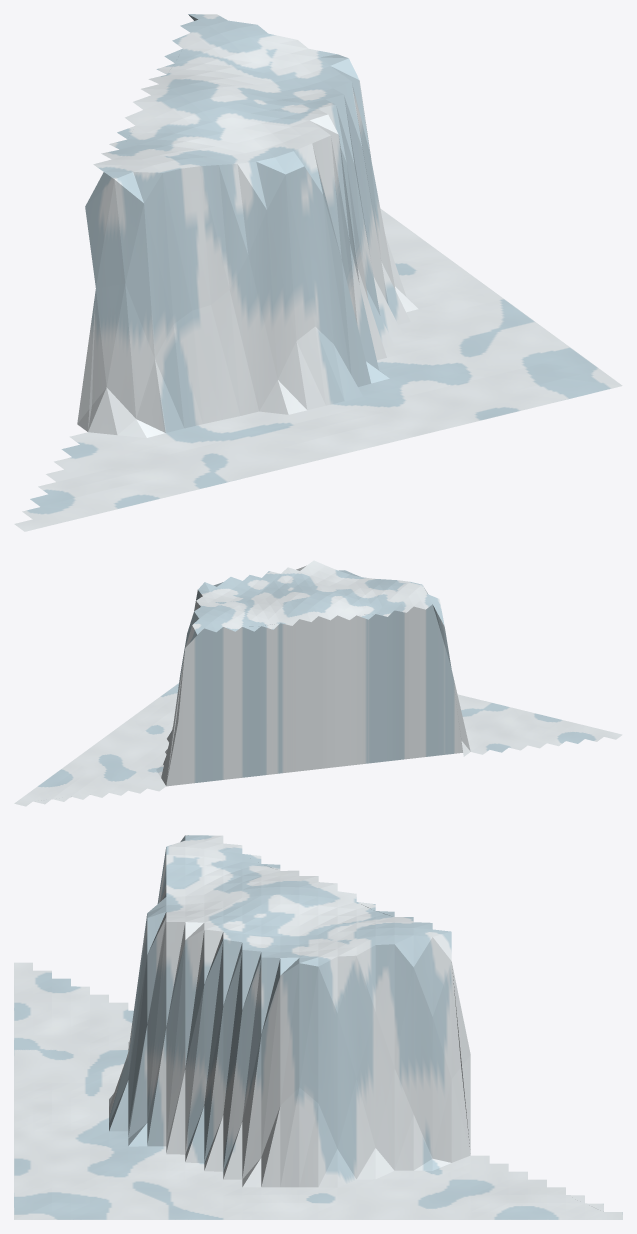
The model's file is Snow_Mountains_06_NE.obj.
3 renders of one model, top to bottom at view 1: azimuth 30°, elevation 25°; view 2: azimuth 150°, elevation 25°; view 3: azimuth 270°, elevation 25°, orthographic. The views are drawn at different scales.
Size of the model in its own units: 10 by 3.85 by 10.
Materials: 1 (1 with a texture image).
